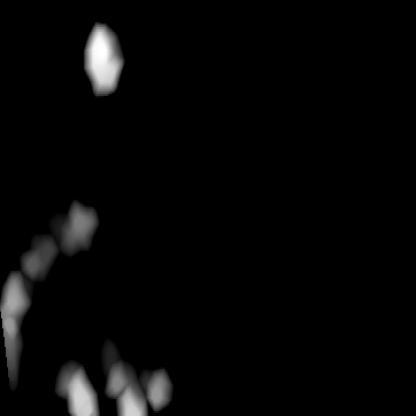fingers: (84, 22, 121, 94)
palm: (1, 271, 171, 414)
